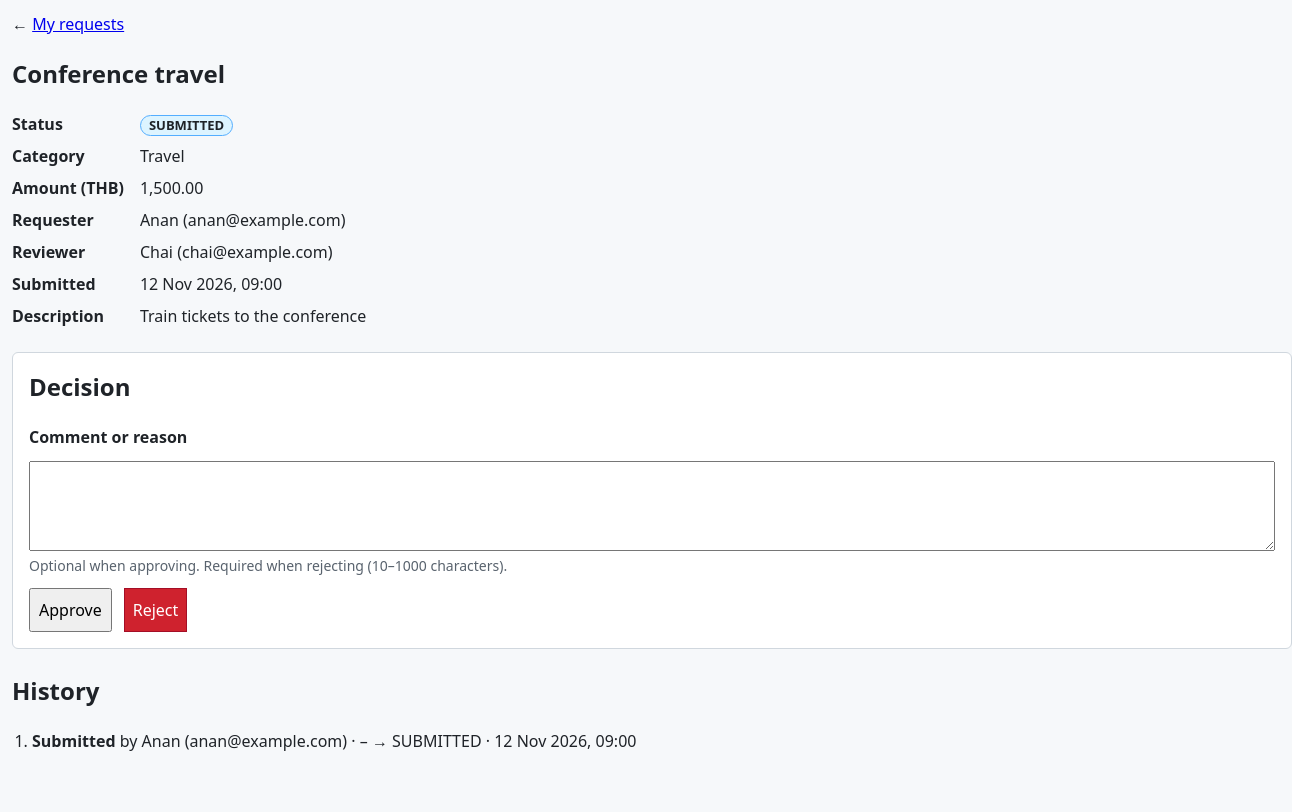
RequestDetailPage decisions (F-04b) › shows the API's 400 message beside the field
The width and height of the screenshot is (1292, 812).
Check: the element "Decision" is shown, box 12,352 -> 1291,649
Type "A long enough reason" into the text box labelled "Comment or reason". click: (652, 506)
box: 29,461 -> 1275,551
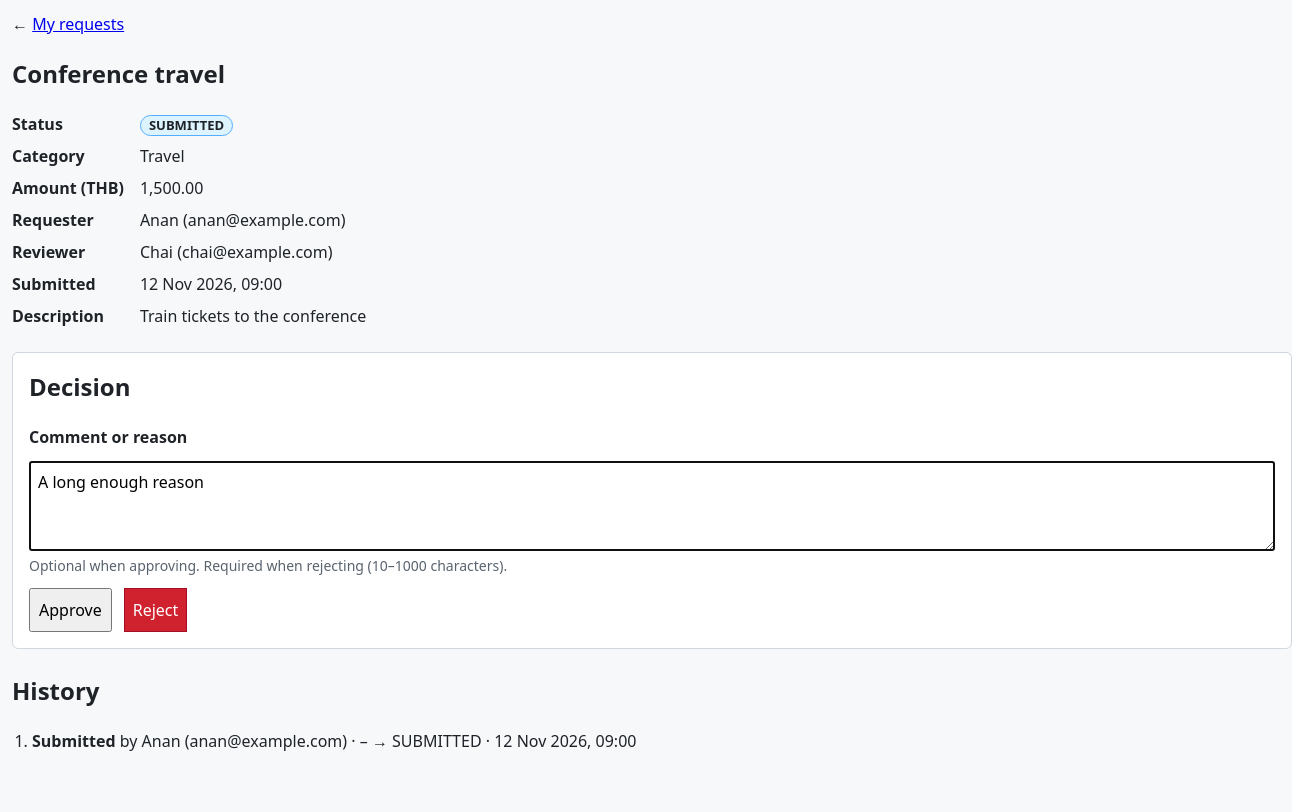
Click the button "Reject". click: (156, 610)
box: 124,588 -> 187,632
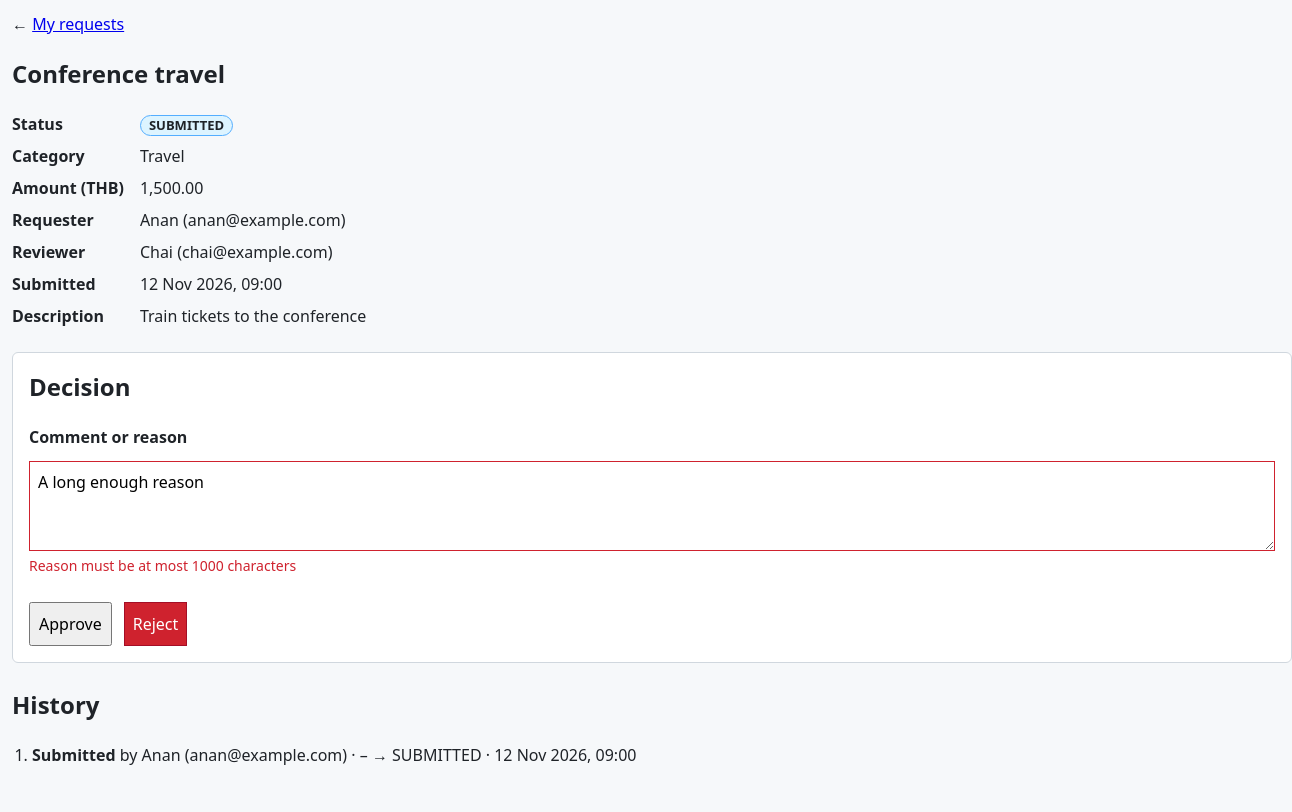
Check: the text box labelled "Comment or reason" is enabled, box 29,461 -> 1275,551
Check: the text "Reason must be at most 1000 characters" is shown, box 29,556 -> 296,575
